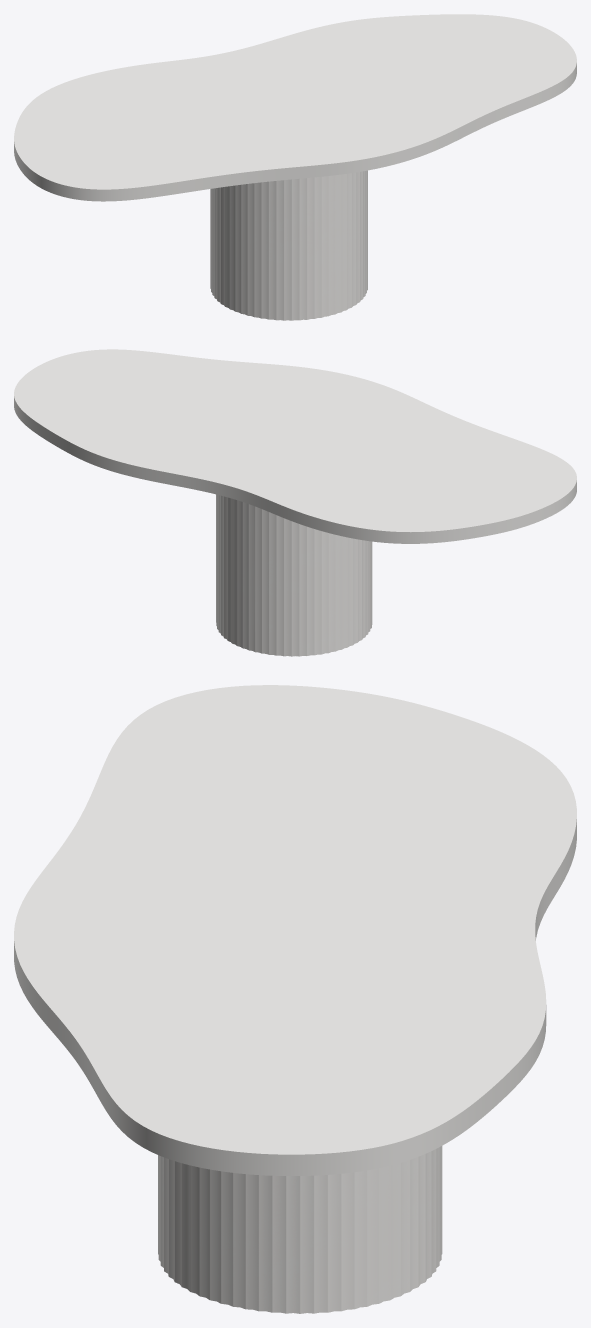
The model's file is purewhite_toplast_standard_ripple.glb.
3 renders of one model, top to bottom at view 1: azimuth 30°, elevation 25°; view 2: azimuth 150°, elevation 25°; view 3: azimuth 270°, elevation 25°, orthographic. The views are drawn at different scales.
Parts seen in each view (by area): view 1: standard_toplast, ripple; view 2: standard_toplast, ripple; view 3: standard_toplast, ripple.
Boxes of the visible parts, left/top/right/bottom form: standard_toplast: left=14, top=14, right=576, bottom=201; ripple: left=210, top=170, right=367, bottom=320; standard_toplast: left=14, top=349, right=576, bottom=543; ripple: left=216, top=494, right=372, bottom=656; standard_toplast: left=14, top=685, right=576, bottom=1175; ripple: left=158, top=1146, right=442, bottom=1313.
Bounding box in the file's own units: 7.5 × 2.5 × 3.8.
Materials: 1 (1 with a texture image).
